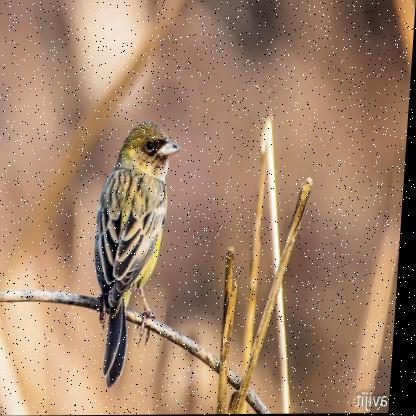Burung: (94, 120, 188, 387)
